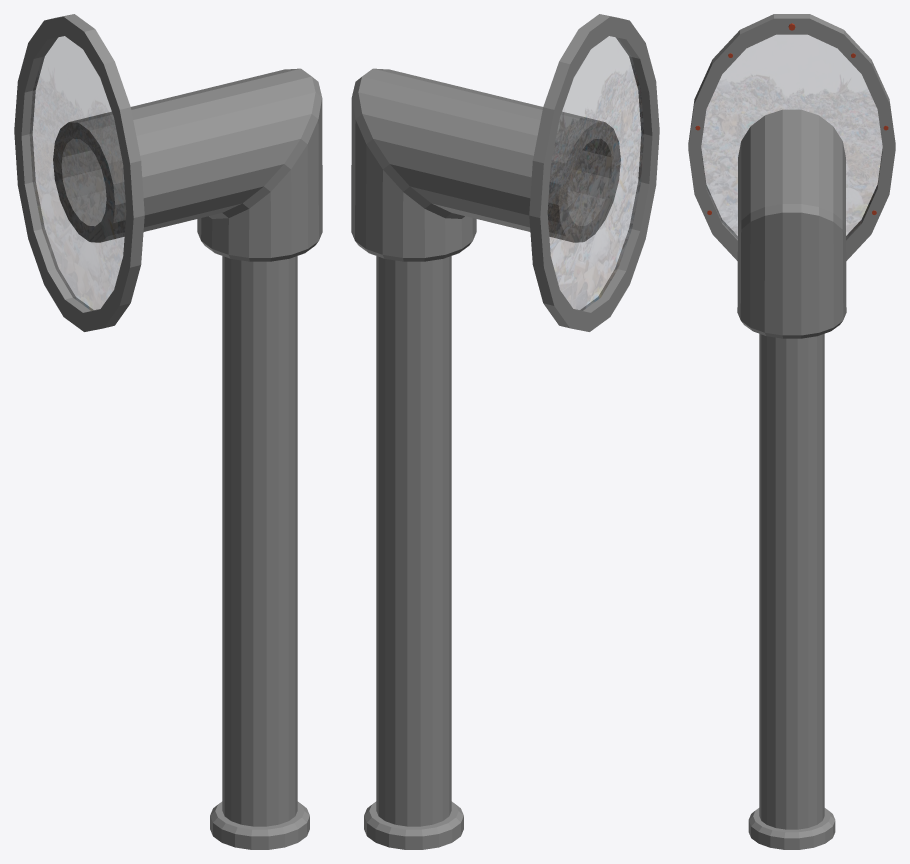
File: truba.glb
The picture shows the model from 3 angles, left to right: view 1: azimuth 30°, elevation 25°; view 2: azimuth 150°, elevation 25°; view 3: azimuth 270°, elevation 25°; orthographic projection. The views are drawn at different scales.
Visible parts, largest first — view 1: Circle, Circle.002, Circle.001; view 2: Circle, Circle.002, Circle.001; view 3: Circle, Circle.002, Circle.001.
Part boxes in pixels (x1,y1,x2,y2): Circle: [53, 68, 322, 849]; Circle.002: [30, 36, 125, 310]; Circle.001: [14, 14, 144, 331]; Circle: [351, 68, 620, 849]; Circle.002: [548, 36, 643, 310]; Circle.001: [529, 14, 659, 331]; Circle: [737, 109, 846, 849]; Circle.002: [701, 35, 882, 238]; Circle.001: [688, 14, 895, 260].
Size of the model in its own units: 7.71 by 26.15 by 6.66.
Materials: 3 (1 with a texture image).
